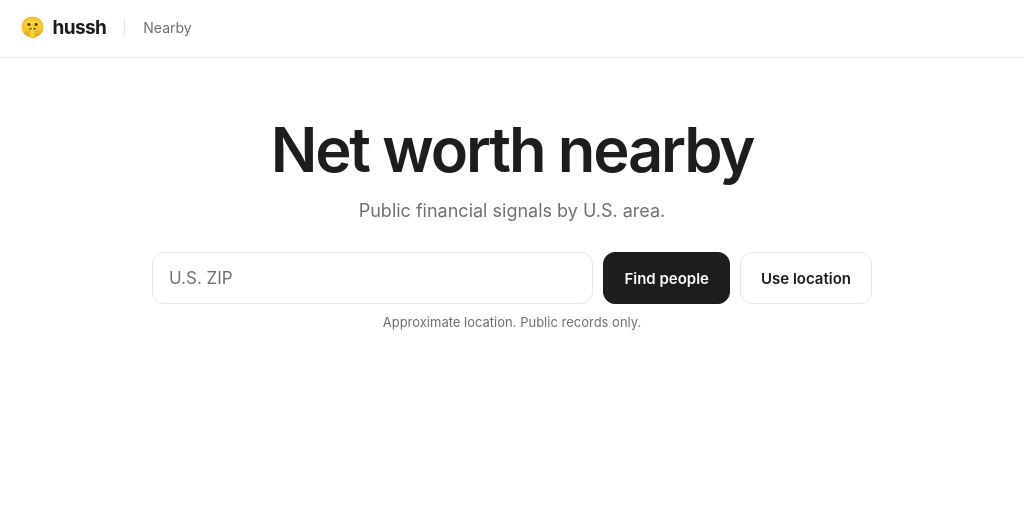
Test: NearbyPeople v4 › shows explicit outside-coverage and unresolved states
Type "32301" into the field named "U.S. ZIP code" at (373, 278), box [152, 252, 593, 304]
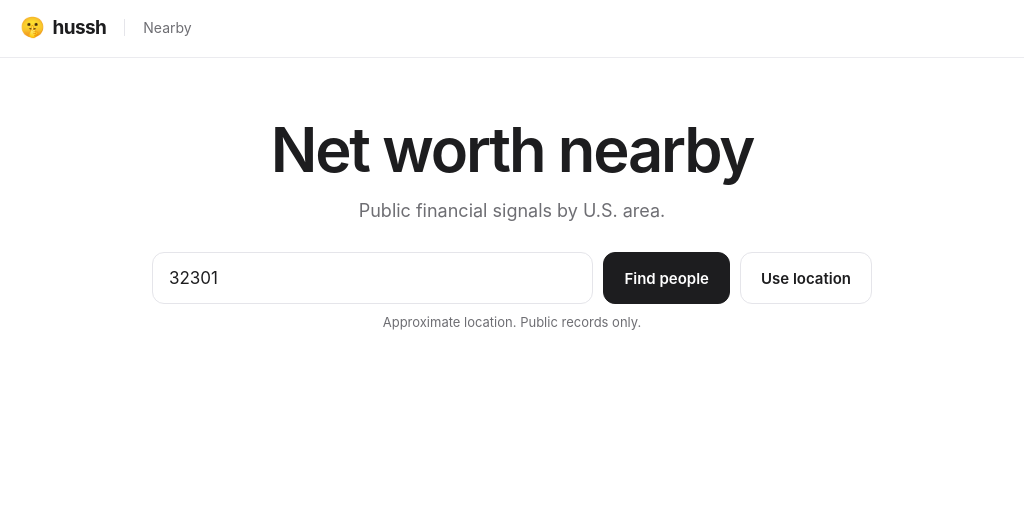
Click the button "Find people" at (667, 278), box [603, 252, 730, 304]
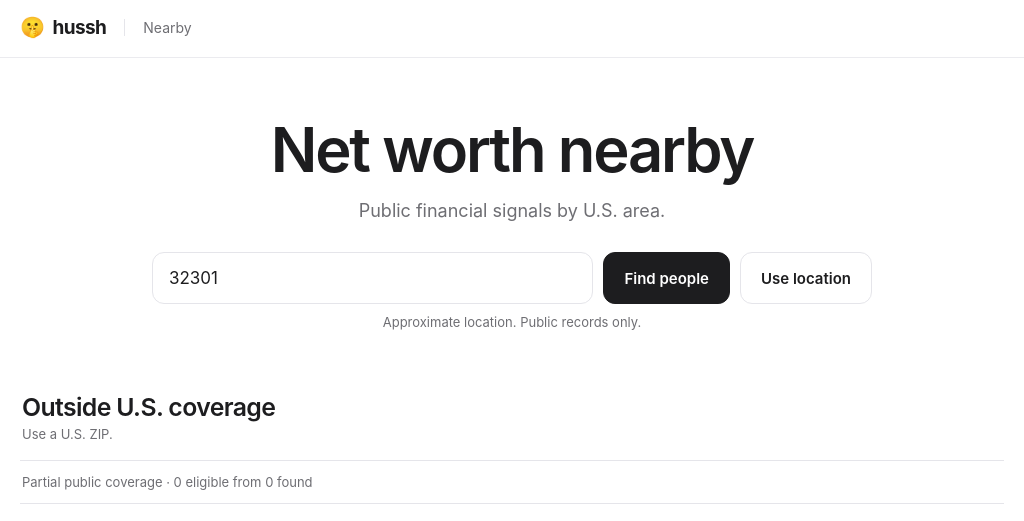
expect the heading "Outside U.S. coverage" is shown: met, box [22, 392, 275, 422]
expect the text "Use a U.S. ZIP." is shown: met, box [22, 426, 113, 442]
Replace the text in the field named "U.S. ZIP code" with "60637" at (373, 278), box [152, 252, 593, 304]
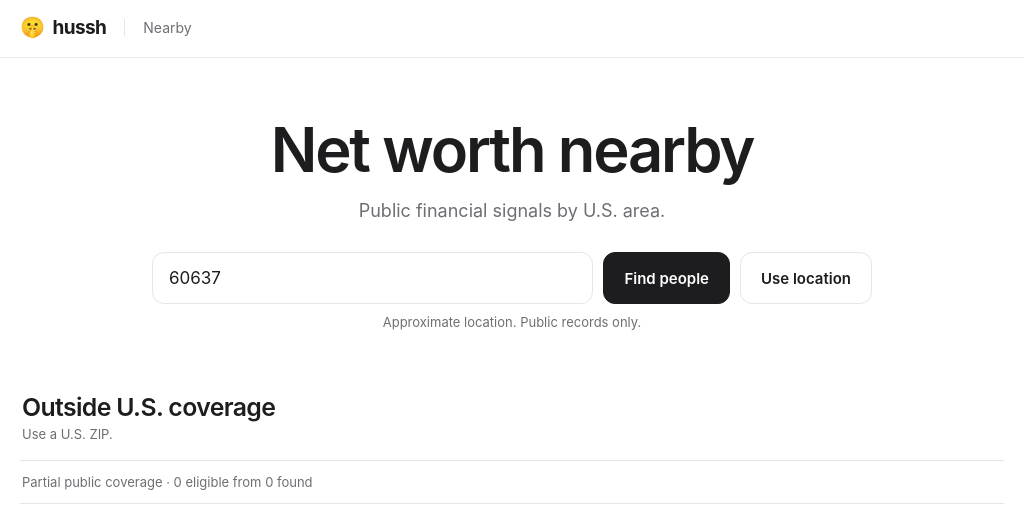
Click the button "Find people" at (667, 278), box [603, 252, 730, 304]
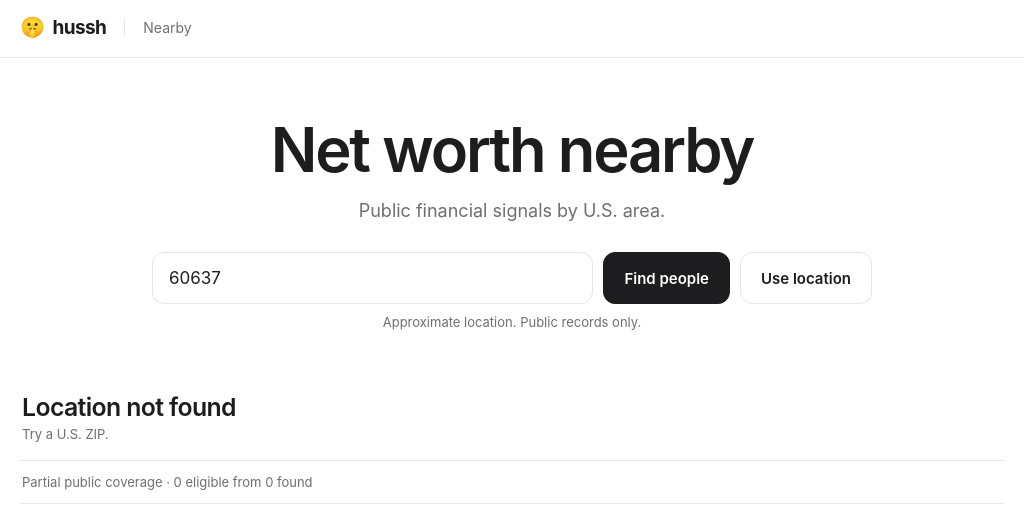
expect the heading "Location not found" is shown: met, box [22, 392, 236, 422]
